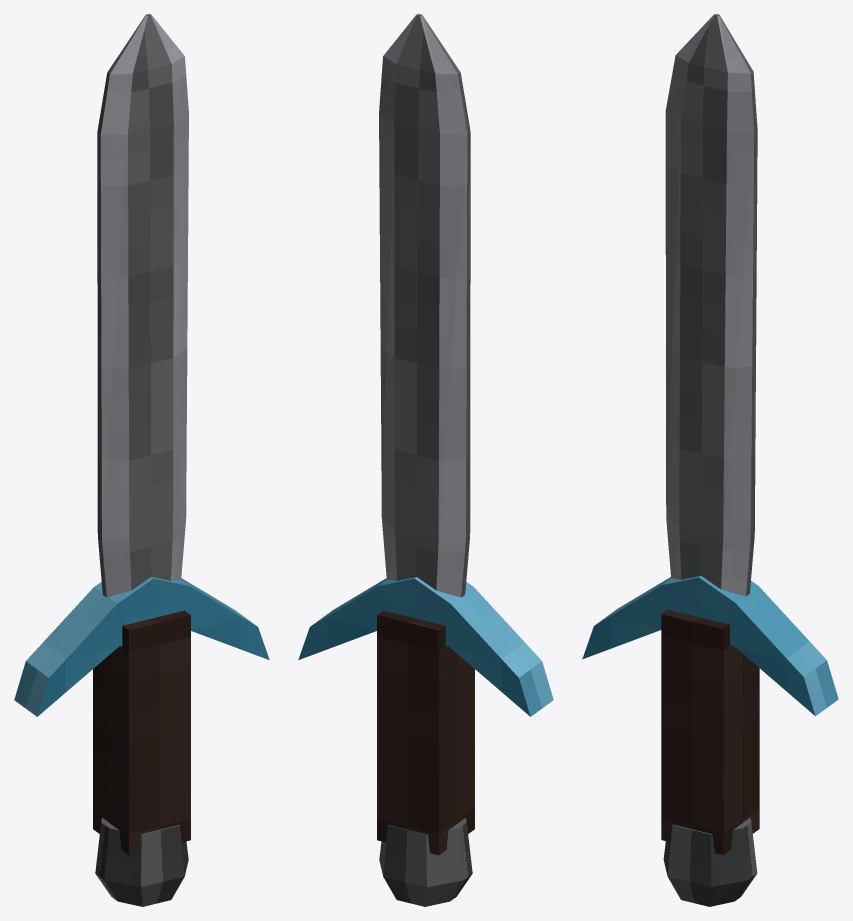
The model's file is cutout.obj.
3 renders of one model, left to right at view 1: azimuth 30°, elevation 25°; view 2: azimuth 150°, elevation 25°; view 3: azimuth 330°, elevation 25°, orthographic.
Size of the model in its own units: 0.5 by 1.8 by 0.1559.
